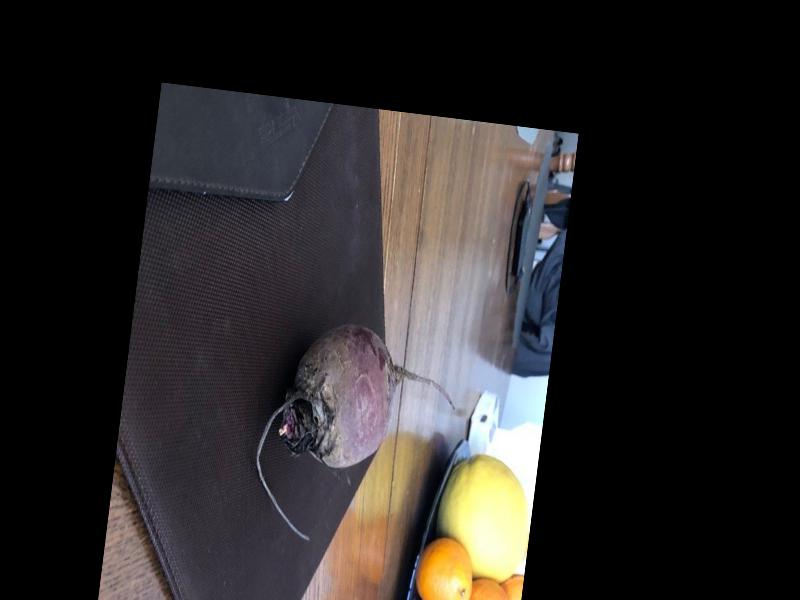Beet: (246, 314, 464, 556)
